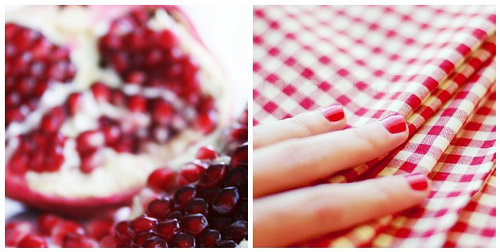pomogranate: (4, 4, 248, 247)
